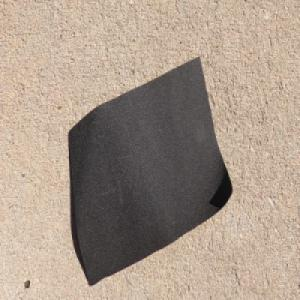PaintChip: (68, 53, 235, 286)
